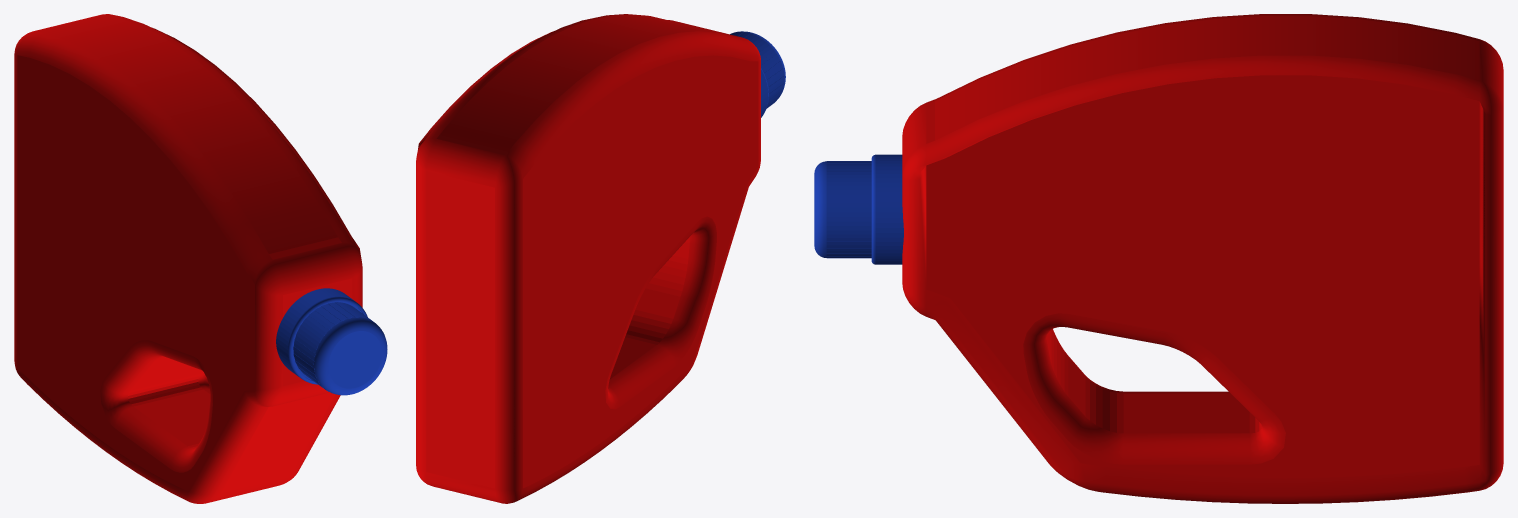
Rendered from model_scale.obj.
3 views of the same model, side by side, from view 1: azimuth 30°, elevation 25°; view 2: azimuth 150°, elevation 25°; view 3: azimuth 270°, elevation 25° (orthographic). The views are drawn at different scales.
Parts seen in each view (by area): view 1: mesh2_mesh2-geometry, mesh1_mesh1-geometry; view 2: mesh2_mesh2-geometry, mesh1_mesh1-geometry; view 3: mesh2_mesh2-geometry, mesh1_mesh1-geometry.
Part boxes in pixels (box(x1,y1,x2,y2)): mesh2_mesh2-geometry: box(14, 14, 362, 503); mesh1_mesh1-geometry: box(276, 288, 387, 395); mesh2_mesh2-geometry: box(416, 14, 760, 503); mesh1_mesh1-geometry: box(730, 31, 785, 117); mesh2_mesh2-geometry: box(902, 14, 1503, 503); mesh1_mesh1-geometry: box(814, 154, 903, 264).
Size of the model in its own units: 0.0401 by 0.14 by 0.196.
